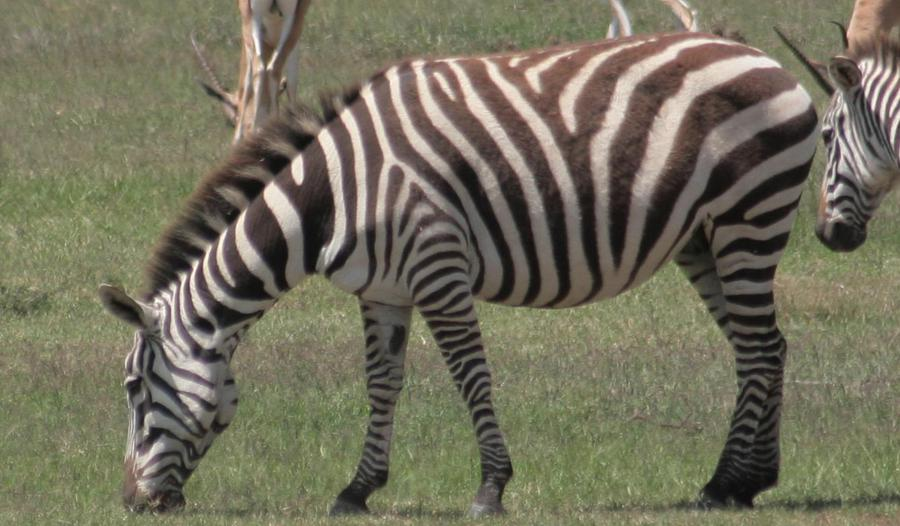zebra_plains: (304, 3, 839, 300)
